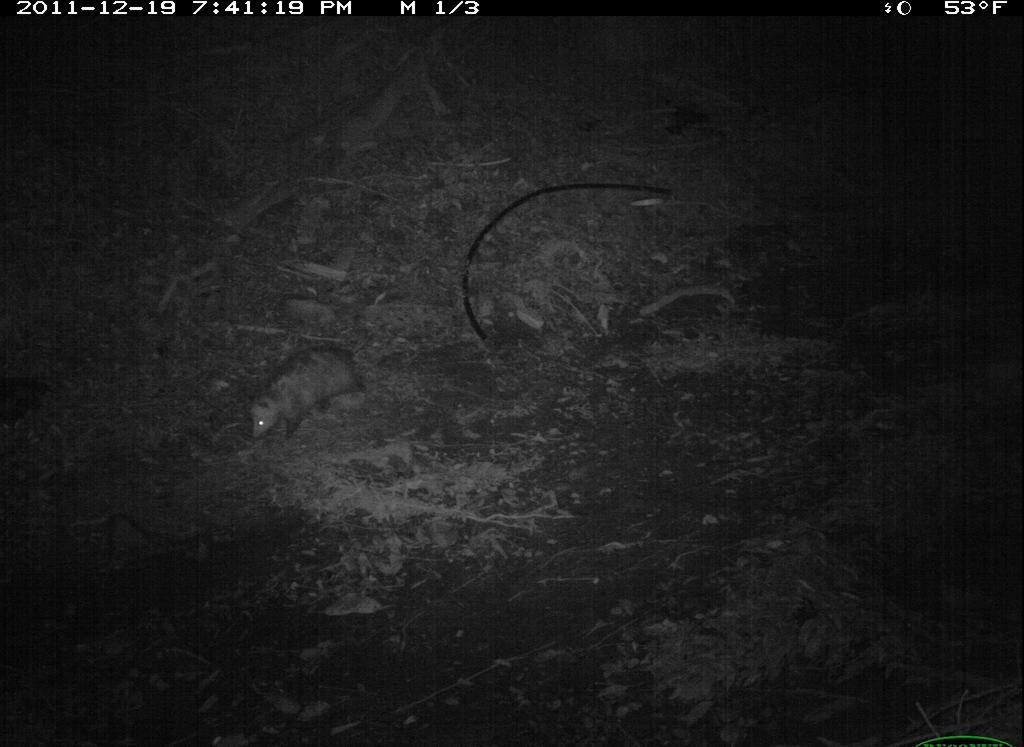opossum: (244, 335, 381, 446)
